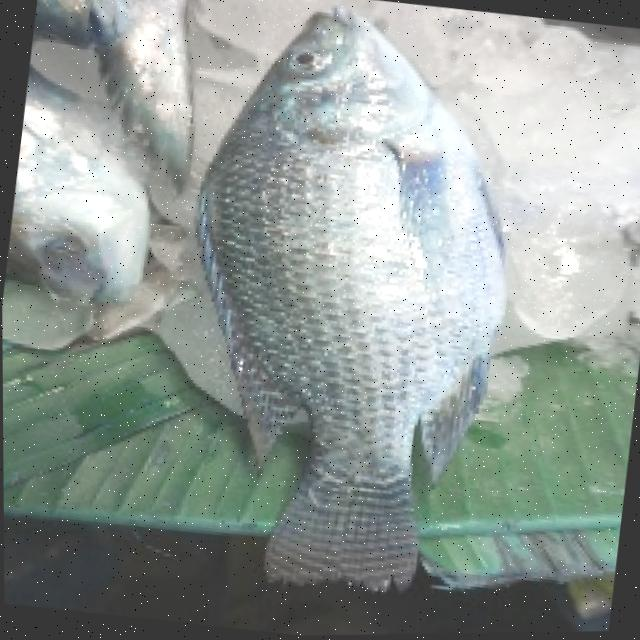Fresh: (164, 0, 564, 483)
